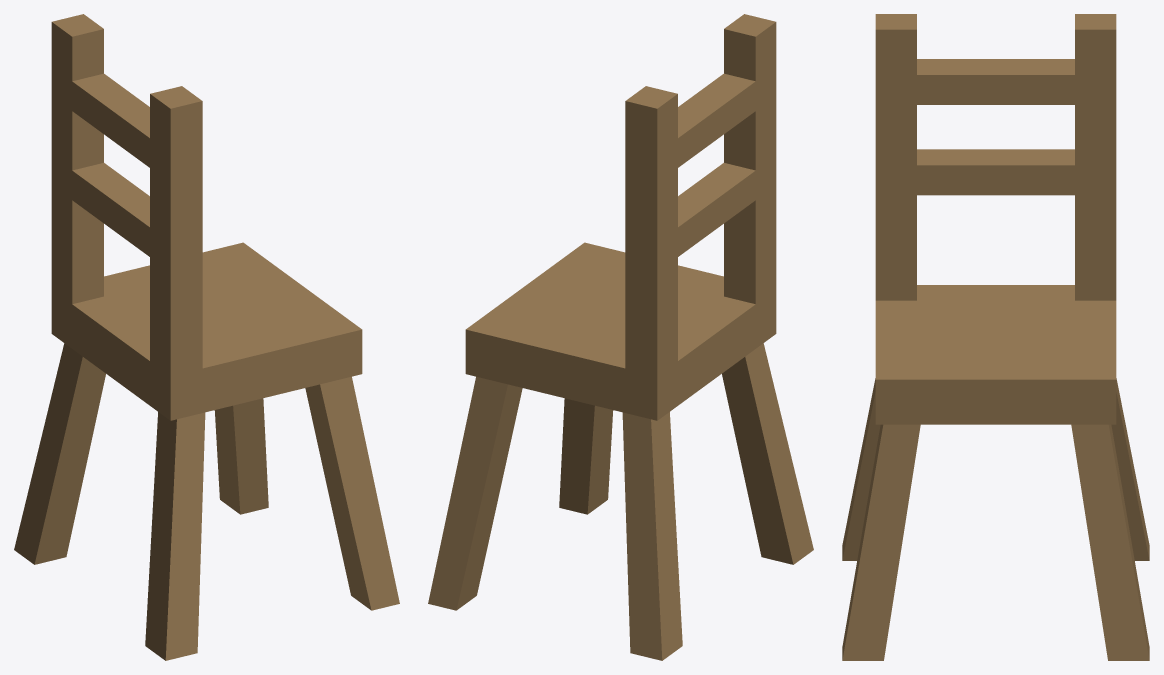
File: fancy_chair.obj
3 renders of one model, left to right at view 1: azimuth 30°, elevation 25°; view 2: azimuth 150°, elevation 25°; view 3: azimuth 270°, elevation 25°, orthographic.
Parts seen in each view (by area): view 1: Object Chair 2026-09-21_11-27-14; view 2: Object Chair 2026-09-21_11-27-14; view 3: Object Chair 2026-09-21_11-27-14.
Part boxes in pixels (x1,y1,x2,y2): Object Chair 2026-09-21_11-27-14: [14, 14, 399, 660]; Object Chair 2026-09-21_11-27-14: [428, 14, 813, 660]; Object Chair 2026-09-21_11-27-14: [842, 14, 1149, 660].
Size of the model in its own units: 66 by 144 by 74.
